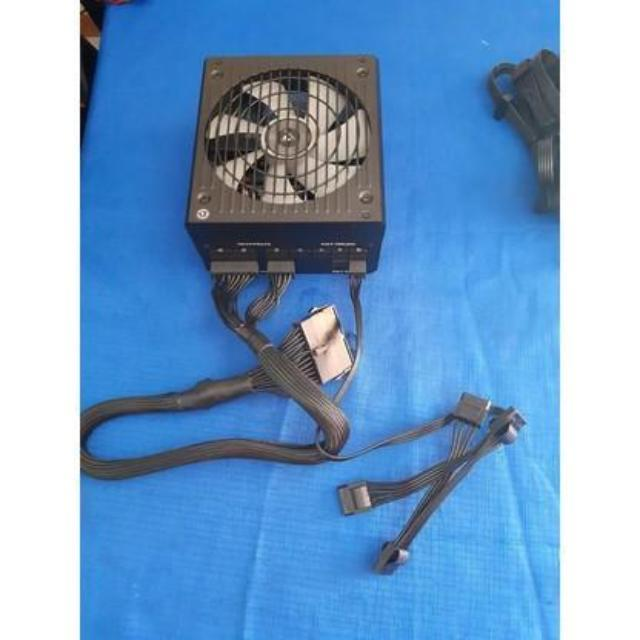PSU: (182, 52, 386, 280)
